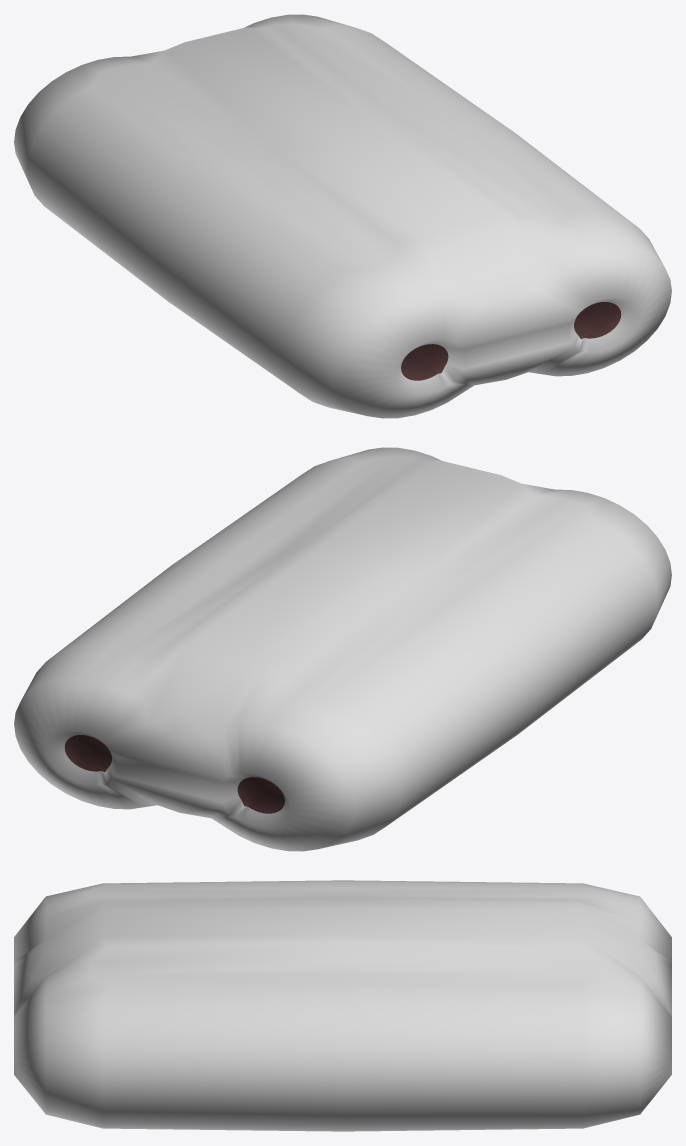
The model's file is choco 1.fbx.
The picture shows the model from 3 angles, top to bottom: view 1: azimuth 30°, elevation 25°; view 2: azimuth 150°, elevation 25°; view 3: azimuth 270°, elevation 25°; orthographic projection. The views are drawn at different scales.
Visible parts, largest first — view 1: Pain au chocolat; view 2: Pain au chocolat; view 3: Pain au chocolat.
Boxes of the visible parts, bbox=[...] form: Pain au chocolat: bbox=[14, 14, 671, 418]; Pain au chocolat: bbox=[14, 447, 671, 851]; Pain au chocolat: bbox=[14, 880, 671, 1131].
Size of the model in its own units: 336 by 141 by 536.
